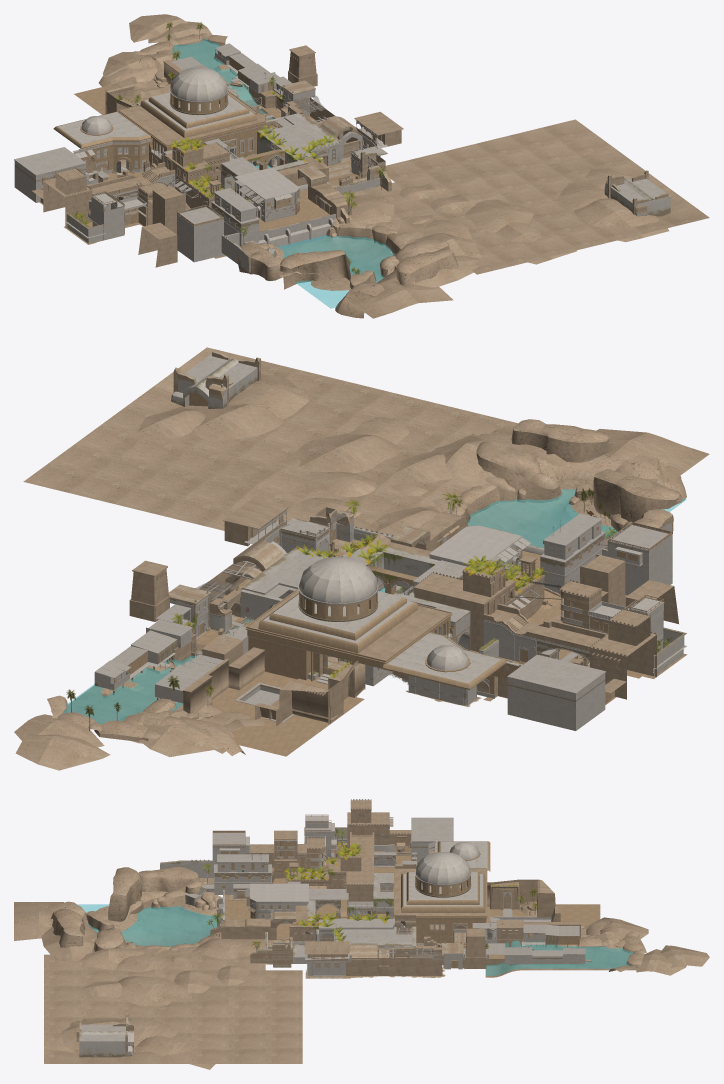
File: dune.glb
3 renders of one model, top to bottom at view 1: azimuth 30°, elevation 25°; view 2: azimuth 150°, elevation 25°; view 3: azimuth 270°, elevation 25°, orthographic. The views are drawn at different scales.
Visible parts, largest first — view 1: Dune, water, plants, Decals; view 2: Dune, water, plants, Decals; view 3: Dune, water, plants, Decals.
Boxes of the visible parts, x1,y1,x2,y2 form: Dune: (14, 14, 709, 318); water: (171, 39, 394, 308); plants: (40, 72, 385, 236); Decals: (39, 21, 380, 276); Dune: (14, 347, 709, 770); water: (63, 489, 686, 724); plants: (171, 492, 671, 697); Decals: (66, 488, 648, 730); Dune: (14, 800, 709, 1069); water: (77, 904, 636, 975); plants: (202, 799, 538, 960); Decals: (213, 811, 536, 977).
Size of the model in its own units: 1.37 by 0.2427 by 1.76.
6 materials, 6 textured.
